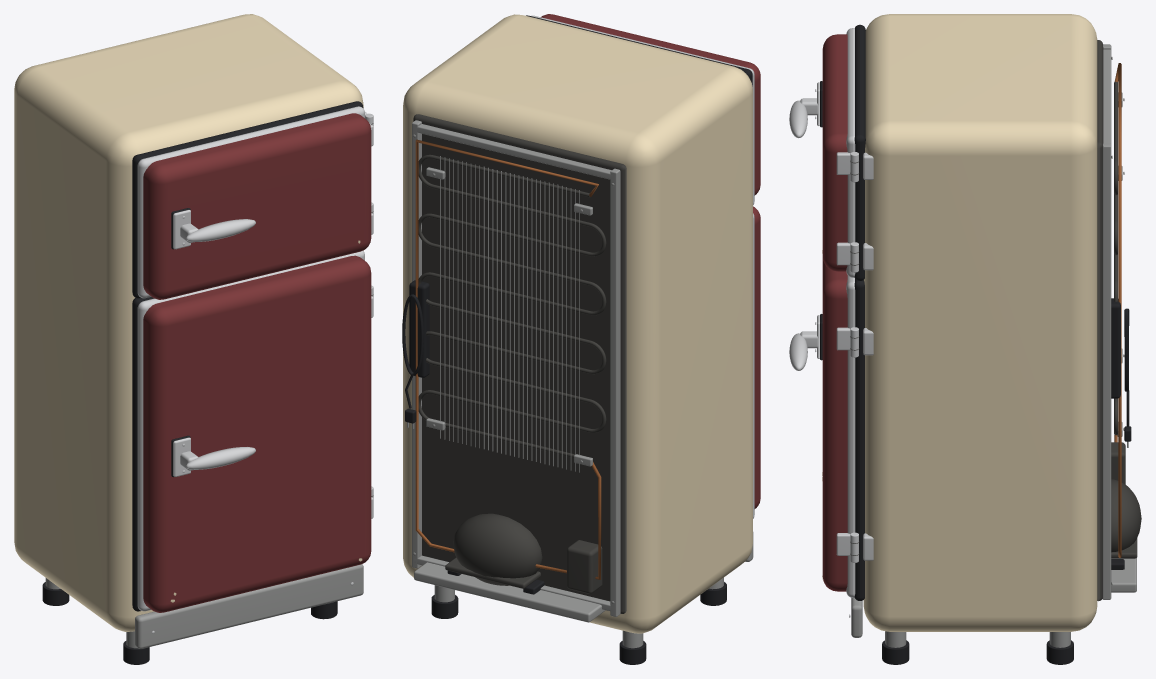
File: S044_retro_refrigerator_refined.glb
3 views of the same model, side by side, from view 1: azimuth 30°, elevation 25°; view 2: azimuth 150°, elevation 25°; view 3: azimuth 270°, elevation 25° (orthographic). The views are drawn at different scales.
Visible parts, largest first — view 1: Burgundy_enamel_doors, Ivory_enamel_cabinet, Polished_chrome_fittings, Brushed_steel_plinth, Rubber_gaskets_and_feet; view 2: Ivory_enamel_cabinet, Rear_pressed_metal, Brushed_steel_plinth, Rubber_gaskets_and_feet, Burgundy_enamel_doors, Copper_refrigerant_lines, Polished_chrome_fittings; view 3: Ivory_enamel_cabinet, Burgundy_enamel_doors, Polished_chrome_fittings, Rubber_gaskets_and_feet, Brushed_steel_plinth, Rear_pressed_metal, Copper_refrigerant_lines.
Part boxes in pixels (x1=…): Burgundy_enamel_doors: x1=143, y1=113, x2=371, y2=612; Ivory_enamel_cabinet: x1=14, y1=14, x2=363, y2=631; Polished_chrome_fittings: x1=137, y1=106, x2=373, y2=633; Brushed_steel_plinth: x1=45, y1=564, x2=363, y2=648; Rubber_gaskets_and_feet: x1=42, y1=101, x2=363, y2=664; Ivory_enamel_cabinet: x1=403, y1=14, x2=752, y2=633; Rear_pressed_metal: x1=413, y1=114, x2=626, y2=613; Brushed_steel_plinth: x1=407, y1=120, x2=753, y2=648; Rubber_gaskets_and_feet: x1=402, y1=15, x2=752, y2=664; Burgundy_enamel_doors: x1=541, y1=14, x2=760, y2=508; Copper_refrigerant_lines: x1=415, y1=139, x2=601, y2=579; Polished_chrome_fittings: x1=531, y1=15, x2=754, y2=518; Ivory_enamel_cabinet: x1=822, y1=14, x2=1097, y2=631; Burgundy_enamel_doors: x1=822, y1=34, x2=847, y2=591; Polished_chrome_fittings: x1=789, y1=28, x2=873, y2=617; Rubber_gaskets_and_feet: x1=820, y1=24, x2=1131, y2=664; Brushed_steel_plinth: x1=851, y1=44, x2=1136, y2=647; Rear_pressed_metal: x1=850, y1=40, x2=1141, y2=601; Copper_refrigerant_lines: x1=1114, y1=63, x2=1121, y2=557.
Bounding box in the file's own units: 0.68 × 1.36 × 0.798.
